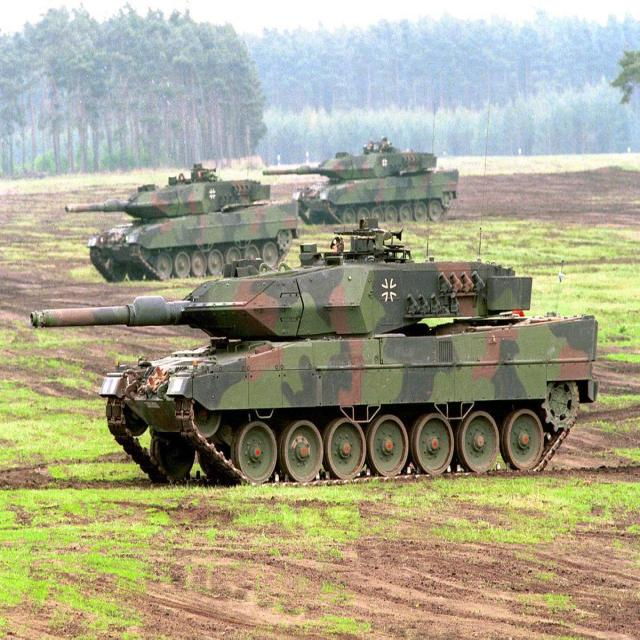Tanks: (31, 292, 600, 481), (80, 168, 299, 282), (302, 132, 458, 231)
